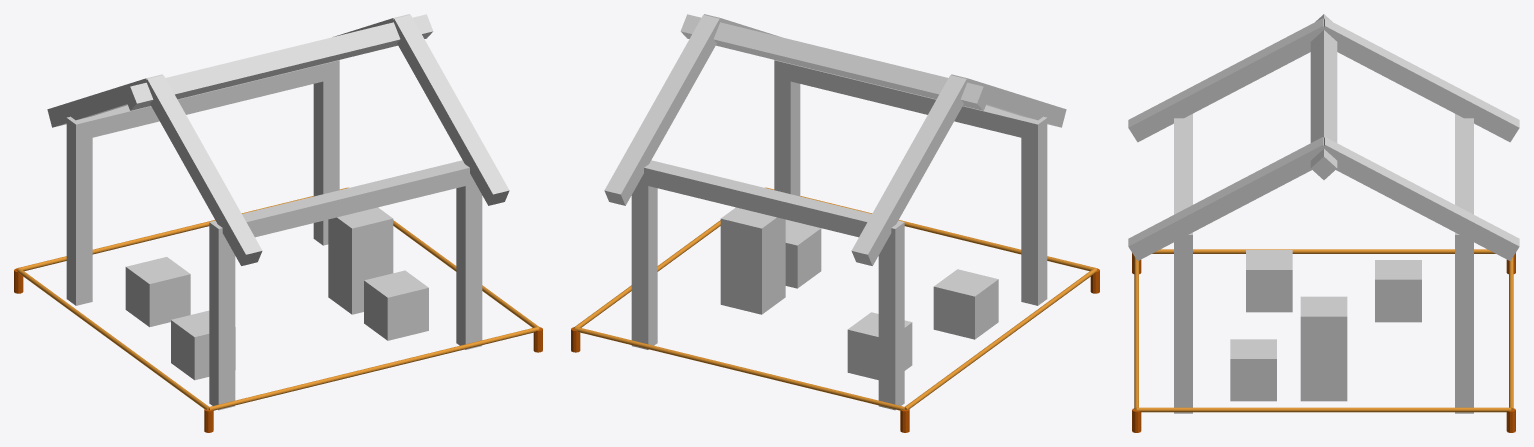
Rendered from gebaude0_2.fbx.
3 renders of one model, left to right at view 1: azimuth 30°, elevation 25°; view 2: azimuth 150°, elevation 25°; view 3: azimuth 270°, elevation 25°, orthographic.
Parts seen in each view (by area): view 1: Cube.006, Cube, Cube.005, Cube.002, Plane.001, Cube.001, Plane, Plane.003, Cube.010, Cube.009, Plane.002, Cube.008 (+7 smaller); view 2: Cube.006, Cube.001, Cube.003, Cube.004, Cube, Plane, Plane.001, Plane.002, Cube.011, Cube.008, Plane.003, Cube.007 (+7 smaller); view 3: Cube.004, Cube.005, Cube.003, Cube.002, Cube.006, Plane.003, Plane.002, Cube.008, Cube.011, Cube.010, Cube.009, Cylinder.005 (+6 smaller).
Boxes of the visible parts, x1,y1,x2,y2 form: Cube.006: [123, 14, 433, 110]; Cube: [209, 160, 471, 245]; Cube.005: [393, 14, 509, 205]; Cube.002: [146, 75, 262, 265]; Plane.001: [66, 129, 92, 305]; Cube.001: [66, 60, 339, 141]; Plane: [209, 236, 235, 410]; Plane.003: [456, 176, 482, 349]; Cube.010: [364, 270, 428, 340]; Cube.009: [125, 257, 190, 327]; Plane.002: [313, 69, 339, 245]; Cube.008: [328, 207, 393, 271]; Cube.006: [680, 14, 990, 110]; Cube.001: [638, 160, 904, 245]; Cube.003: [851, 75, 967, 265]; Cube.004: [604, 14, 719, 205]; Cube: [774, 60, 1047, 141]; Plane: [1021, 135, 1047, 305]; Plane.001: [878, 239, 904, 410]; Plane.002: [631, 183, 657, 349]; Cube.011: [933, 269, 998, 339]; Cube.008: [720, 207, 785, 271]; Plane.003: [774, 77, 800, 196]; Cube.007: [720, 254, 785, 314]; Cube.004: [1321, 137, 1519, 260]; Cube.005: [1128, 137, 1323, 260]; Cube.003: [1321, 18, 1519, 142]; Cube.002: [1128, 18, 1323, 142]; Cube.006: [1310, 14, 1337, 179]; Plane.003: [1174, 244, 1192, 413]; Plane.002: [1455, 244, 1473, 413]; Cube.008: [1300, 296, 1347, 358]; Cube.011: [1246, 250, 1292, 312]; Cube.010: [1230, 339, 1276, 401]; Cube.009: [1375, 260, 1421, 322]; Cylinder.005: [1136, 407, 1511, 412].
Bounding box in the file's own units: 819 × 638 × 836.
